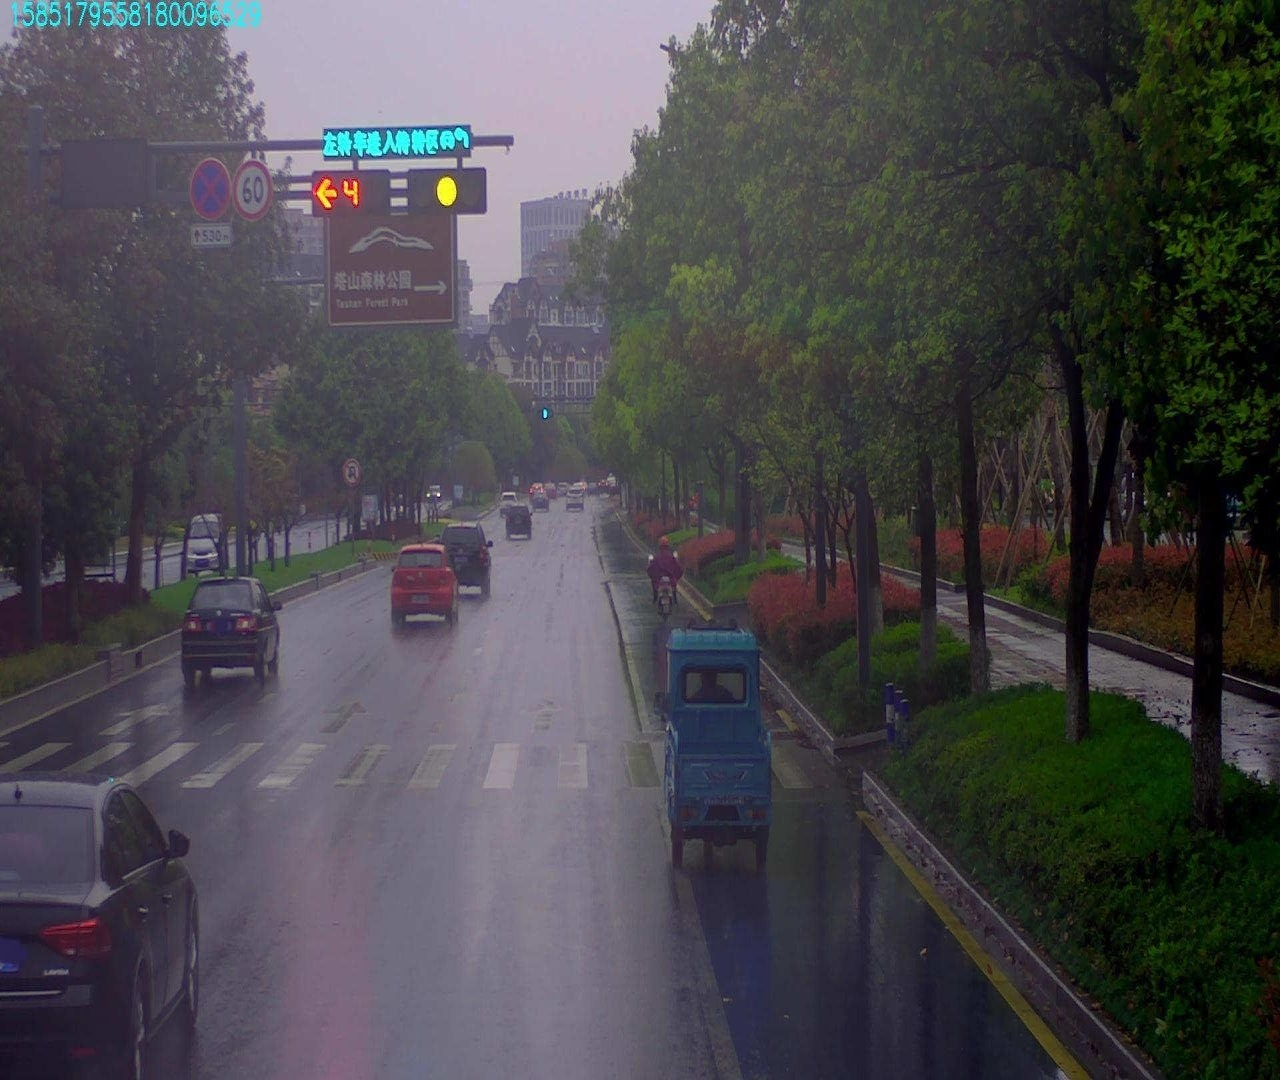red: (312, 178, 383, 213)
yellow: (408, 166, 480, 211)
